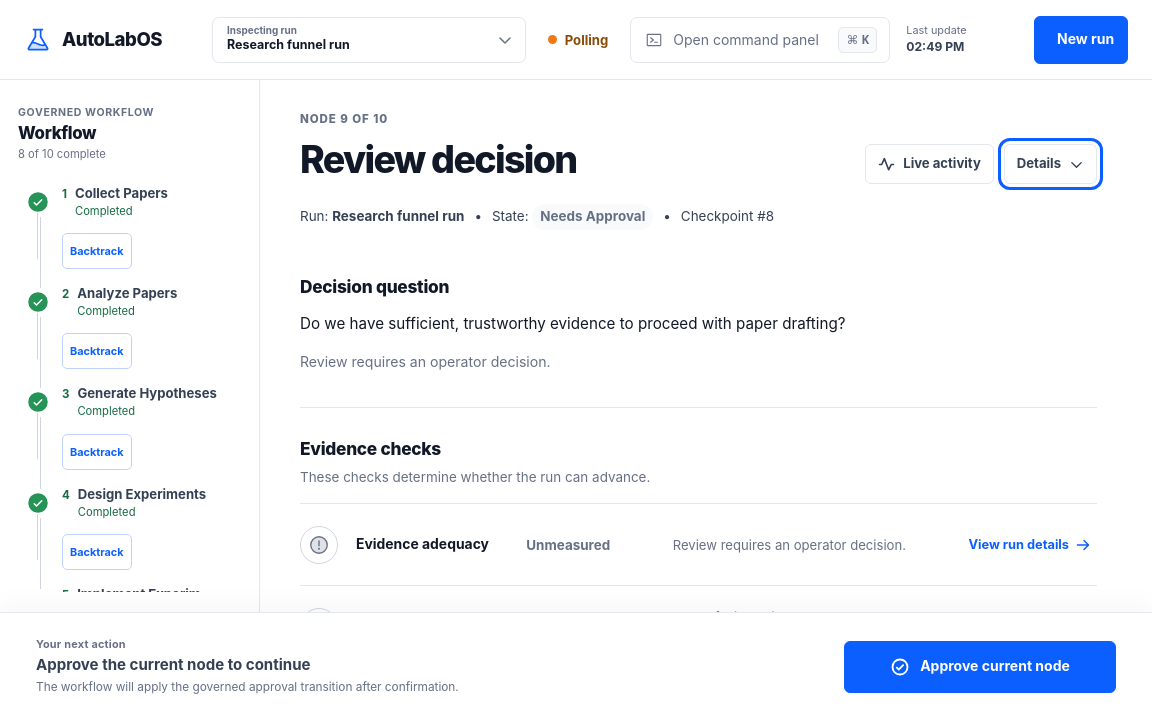
Test case: App › shows an artifact-free topic discovery run as unmeasured, not blocked
Expected: the text "Blocked" is not shown
Click the button "Details". click: (1050, 164)
box: 1004,144 -> 1097,184
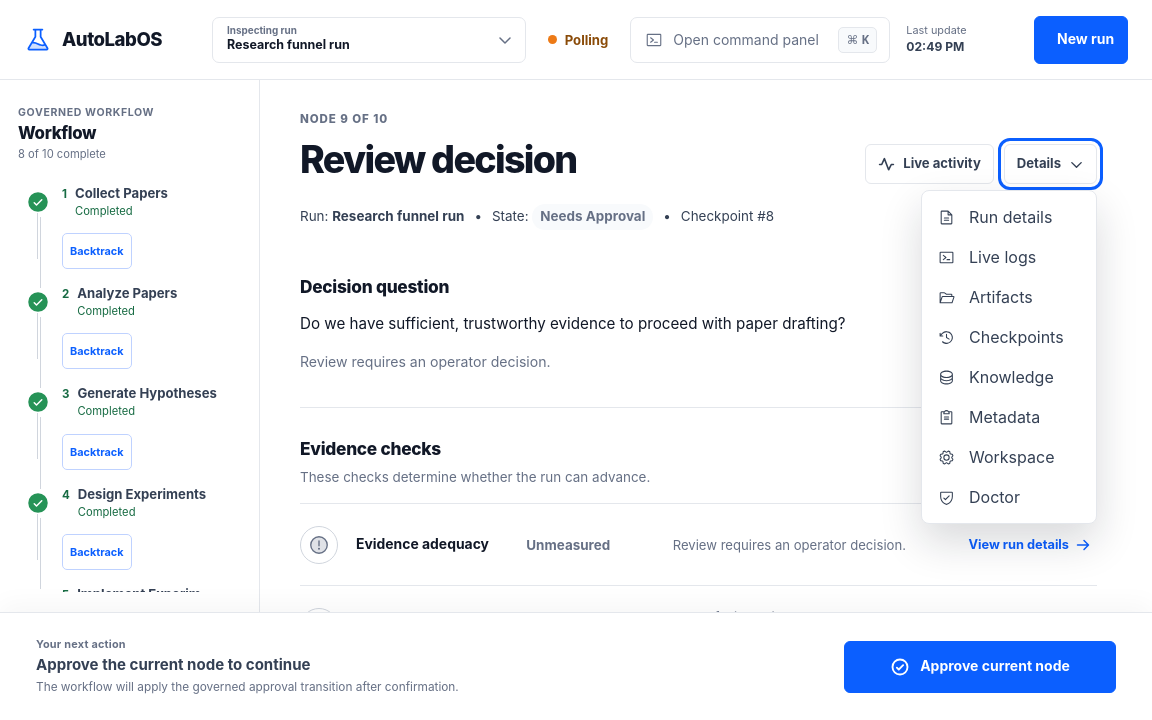
Click the button "Run details". click: (1009, 217)
box: 928,197 -> 1090,237
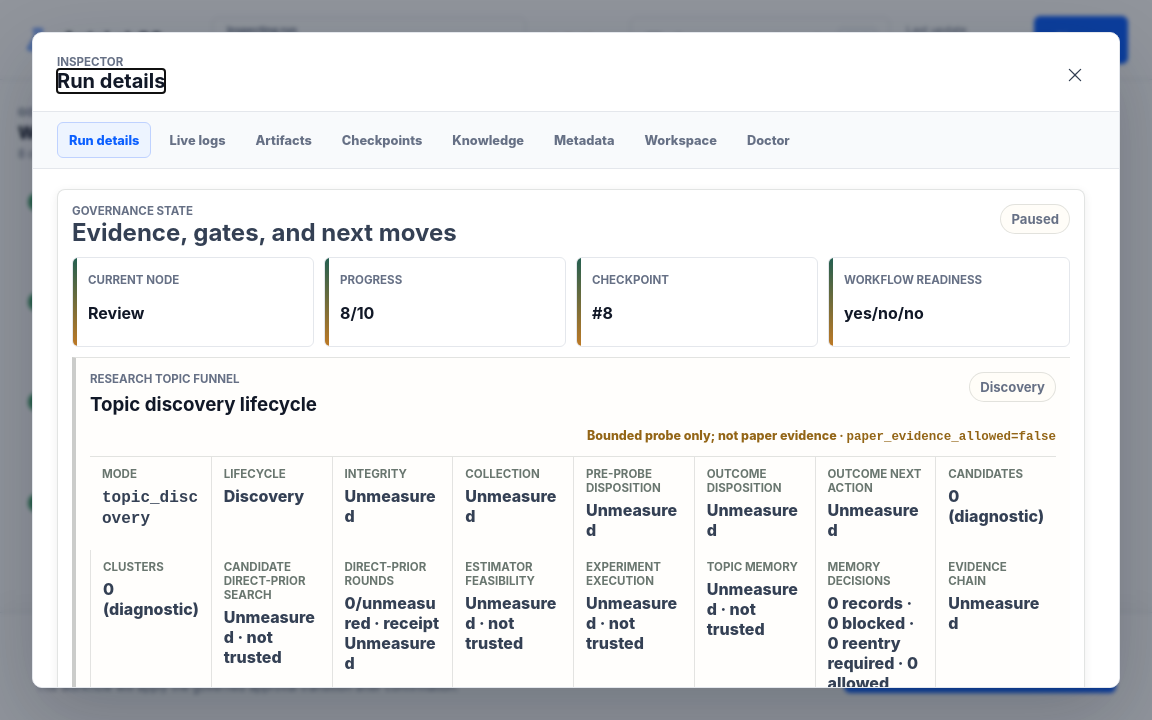
Expected: the text "Unmeasured" below "Integrity" is shown, 344,486 -> 436,526
